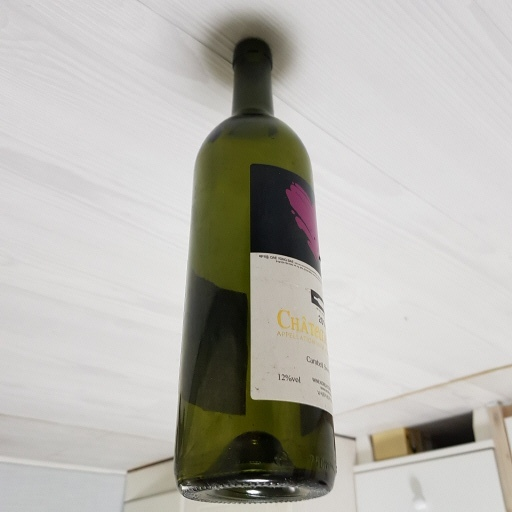Glass_2: (171, 34, 339, 507)
